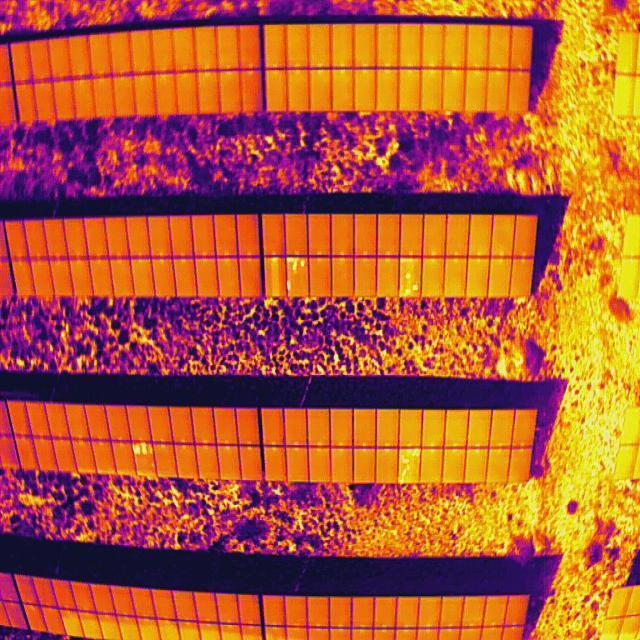diode: (271, 257, 279, 297)
hotspot: (286, 258, 309, 295), (402, 258, 421, 296), (400, 448, 420, 484), (132, 440, 148, 456)
